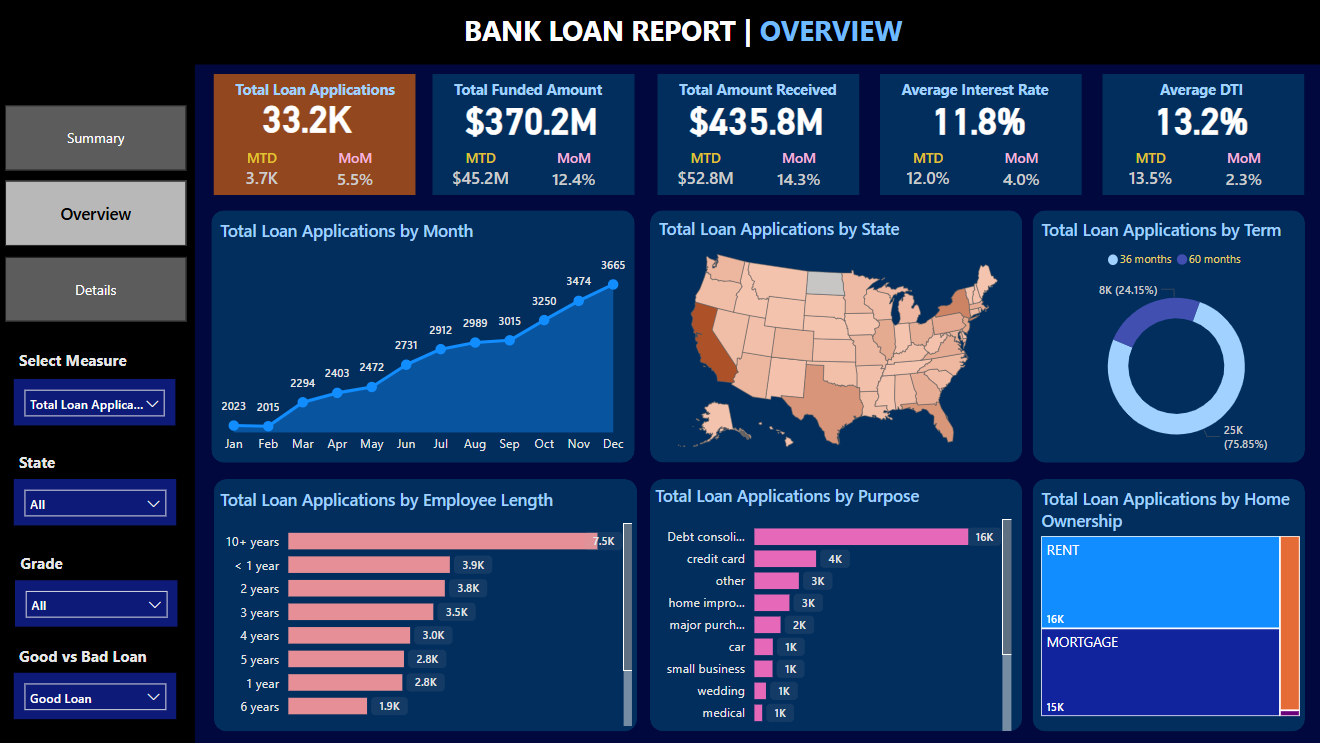

The page's visual inventory and layout, read from the dashboard file:
{"tool":"powerbi","page":{"name":"Overview","canvas":[1280,720],"ordinal":1},"visuals":[{"type":"shape","box":[0,0,1280.3,63.2],"z":0},{"type":"shape","box":[422.3,72.7,195,116.7],"z":0,"group":"g2"},{"type":"shape","box":[210.8,72.9,195,117],"z":0,"group":"g1"},{"type":"shape","box":[639.7,72.9,195,117],"z":0,"group":"g3"},{"type":"shape","box":[854.4,72.9,195,117],"z":0,"group":"g4"},{"type":"shape","box":[1069.1,72.9,195,117],"z":0,"group":"g5"},{"type":"card","fields":{"Values":["bank_loan_data.Total Funded Amount"]},"box":[445.9,86.7,142.7,55.8],"z":1000,"group":"g2"},{"type":"card","fields":{"Values":["bank_loan_data.Total Amount Received"]},"box":[663.3,86.9,142.7,56],"z":1000,"group":"g3"},{"type":"card","fields":{"Values":["bank_loan_data.Average Interest Rate"]},"box":[878,86.9,142.7,56],"z":1000,"group":"g4"},{"type":"card","fields":{"Values":["bank_loan_data.Average DTI"]},"box":[1092.7,86.9,142.7,56],"z":1000,"group":"g5"},{"type":"card","fields":{"Values":["bank_loan_data.Total Loan Applications"]},"box":[233.4,87.4,134.5,52.4],"z":1000,"group":"g1"},{"type":"shape","box":[208.7,203.9,409,243.7],"z":1000},{"type":"shape","box":[0,54.9,192,665.5],"z":2000},{"type":"textbox","box":[437.9,72.4,174.8,29.5],"z":2000,"group":"g2"},{"type":"textbox","box":[226.4,72.6,174.8,29.6],"z":2000,"group":"g1"},{"type":"textbox","box":[655.3,72.6,174.8,29.6],"z":2000,"group":"g3"},{"type":"textbox","box":[870,72.6,174.8,29.6],"z":2000,"group":"g4"},{"type":"textbox","box":[1084.7,72.6,174.8,29.6],"z":2000,"group":"g5"},{"type":"textbox","box":[447.6,7.3,442.4,45.7],"z":3000},{"type":"card","title":"MTD","fields":{"Values":["bank_loan_data.MTD Funded Amount"]},"box":[428.2,143.8,80.7,45.6],"z":3000,"group":"g2"},{"type":"card","title":"MTD","fields":{"Values":["bank_loan_data.MTD Loan Applications"]},"box":[216.7,144.1,80.7,45.7],"z":3000,"group":"g1"},{"type":"card","title":"MTD","fields":{"Values":["bank_loan_data.MTD Total Amount Recieved"]},"box":[645.6,144.1,80.7,45.7],"z":3000,"group":"g3"},{"type":"card","title":"MTD","fields":{"Values":["bank_loan_data.MTD Average Interest Rate"]},"box":[860.3,144.1,80.7,45.7],"z":3000,"group":"g4"},{"type":"card","title":"MTD","fields":{"Values":["bank_loan_data.MTD Avg DTI"]},"box":[1075,144.1,80.7,45.7],"z":3000,"group":"g5"},{"type":"group","id":"g1","title":"Group 1","box":[210.8,72.6,194.5,117.5],"z":4000},{"type":"card","title":"MoM","fields":{"Values":["bank_loan_data.MoM Total Funded Amount"]},"box":[519.3,144,79.8,44.7],"z":4000,"group":"g2"},{"type":"card","title":"MoM","fields":{"Values":["bank_loan_data.MoM Loan Application"]},"box":[307.8,144.4,79.8,44.8],"z":4000,"group":"g1"},{"type":"card","title":"MoM","fields":{"Values":["bank_loan_data.MoM Total Recieved Amount"]},"box":[736.7,144.4,79.8,44.8],"z":4000,"group":"g3"},{"type":"card","title":"MoM","fields":{"Values":["bank_loan_data.MoM Avg Int rate"]},"box":[951.4,144.4,79.8,44.8],"z":4000,"group":"g4"},{"type":"card","title":"MoM","fields":{"Values":["bank_loan_data.MoM Average Interest Rate"]},"box":[1166.1,144.4,79.8,44.8],"z":4000,"group":"g5"},{"type":"group","id":"g2","title":"Group 1","box":[422.3,72.4,195.4,117],"z":5000},{"type":"group","id":"g3","title":"Group 1","box":[639.7,72.6,195,117],"z":6000},{"type":"group","id":"g4","title":"Group 1","box":[854.4,72.6,195,117],"z":7000},{"type":"group","id":"g5","title":"Group 1","box":[1069.1,72.6,195,117],"z":8000},{"type":"slicer","fields":{"Values":["bank_loan_data.address_state"]},"box":[18.1,463.3,156.8,44.6],"z":9000},{"type":"textbox","box":[18.1,431.9,56.7,31.4],"z":10000},{"type":"slicer","fields":{"Values":["bank_loan_data.grade"]},"box":[19.3,561,156.8,44.6],"z":11000},{"type":"textbox","box":[19.3,529.6,63.9,31.4],"z":12000},{"type":"textbox","box":[18.1,618.9,155.6,31.4],"z":13000},{"type":"slicer","fields":{"Values":["bank_loan_data.Good vs Bad Loan"]},"box":[18.1,650.3,156.8,44.6],"z":14000},{"type":"areaChart","fields":{"Y":["bank_loan_data.Total Loan Applications"],"Category":["Date Table.Month"]},"box":[212.3,212.3,403,235.3],"z":15000},{"type":"slicer","fields":{"Values":["Select Measure.Select Measure"]},"box":[18.1,366.8,155.6,44.6],"z":16000},{"type":"textbox","box":[18.1,333,125.5,31.4],"z":17000},{"type":"shape","box":[632.2,203.9,359.5,243.7],"z":18000},{"type":"shapeMap","fields":{"Value":["bank_loan_data.Total Loan Applications"],"Category":["bank_loan_data.address_state"]},"box":[635.8,209.9,355.9,237.7],"z":19000},{"type":"shape","box":[1001.3,203.9,263,243.7],"z":20000},{"type":"donutChart","fields":{"Y":["bank_loan_data.Total Loan Applications"],"Category":["bank_loan_data.term"]},"box":[1005,211.1,270.2,237.7],"z":21000},{"type":"shape","box":[211.1,463.3,409,243.7],"z":22000},{"type":"barChart","fields":{"Y":["bank_loan_data.Total Loan Applications"],"Category":["bank_loan_data.emp_length"]},"box":[212.3,471.7,407.8,235.3],"z":23000},{"type":"shape","box":[632.2,463.3,359.5,243.7],"z":24000},{"type":"barChart","fields":{"Y":["bank_loan_data.Total Loan Applications"],"Category":["bank_loan_data.purpose"]},"box":[632.2,468.1,353.5,243.7],"z":25000},{"type":"shape","box":[1001.3,463.3,263,243.7],"z":26000},{"type":"treemap","fields":{"Values":["bank_loan_data.Total Loan Applications"],"Group":["bank_loan_data.home_ownership"]},"box":[1005,470.5,259.4,226.8],"z":27000}]}

Visuals, with their boxes in screenshot pixels (x1, y1, x2, y2), scaled from the page's 1280x720 canvas onto the 1320x743 screenshot:
shape: bbox=(0, 0, 1319, 65)
shape: bbox=(435, 75, 637, 195)
shape: bbox=(217, 75, 418, 196)
shape: bbox=(660, 75, 861, 196)
shape: bbox=(881, 75, 1082, 196)
shape: bbox=(1103, 75, 1304, 196)
card - bank_loan_data.Total Funded Amount: bbox=(460, 89, 607, 147)
card - bank_loan_data.Total Amount Received: bbox=(684, 90, 831, 147)
card - bank_loan_data.Average Interest Rate: bbox=(905, 90, 1053, 147)
card - bank_loan_data.Average DTI: bbox=(1127, 90, 1274, 147)
card - bank_loan_data.Total Loan Applications: bbox=(241, 90, 379, 144)
shape: bbox=(215, 210, 637, 462)
shape: bbox=(0, 57, 198, 742)
textbox: bbox=(452, 75, 632, 105)
textbox: bbox=(233, 75, 414, 105)
textbox: bbox=(676, 75, 856, 105)
textbox: bbox=(897, 75, 1077, 105)
textbox: bbox=(1119, 75, 1299, 105)
textbox: bbox=(462, 8, 918, 55)
"MTD" card: bbox=(442, 148, 525, 195)
"MTD" card: bbox=(223, 149, 307, 196)
"MTD" card: bbox=(666, 149, 749, 196)
"MTD" card: bbox=(887, 149, 970, 196)
"MTD" card: bbox=(1109, 149, 1192, 196)
"Group 1" group: bbox=(217, 75, 418, 196)
"MoM" card: bbox=(536, 149, 618, 195)
"MoM" card: bbox=(317, 149, 400, 195)
"MoM" card: bbox=(760, 149, 842, 195)
"MoM" card: bbox=(981, 149, 1063, 195)
"MoM" card: bbox=(1203, 149, 1285, 195)
"Group 1" group: bbox=(435, 75, 637, 195)
"Group 1" group: bbox=(660, 75, 861, 196)
"Group 1" group: bbox=(881, 75, 1082, 196)
"Group 1" group: bbox=(1103, 75, 1304, 196)
slicer - bank_loan_data.address_state: bbox=(19, 478, 180, 524)
textbox: bbox=(19, 446, 77, 478)
slicer - bank_loan_data.grade: bbox=(20, 579, 182, 625)
textbox: bbox=(20, 547, 86, 579)
textbox: bbox=(19, 639, 179, 671)
slicer - bank_loan_data.Good vs Bad Loan: bbox=(19, 671, 180, 717)
areaChart - bank_loan_data.Total Loan Applications x Date Table.Month: bbox=(219, 219, 635, 462)
slicer - Select Measure.Select Measure: bbox=(19, 379, 179, 425)
textbox: bbox=(19, 344, 148, 376)
shape: bbox=(652, 210, 1023, 462)
shapeMap - bank_loan_data.Total Loan Applications x bank_loan_data.address_state: bbox=(656, 217, 1023, 462)
shape: bbox=(1033, 210, 1304, 462)
donutChart - bank_loan_data.Total Loan Applications x bank_loan_data.term: bbox=(1036, 218, 1315, 463)
shape: bbox=(218, 478, 639, 730)
barChart - bank_loan_data.Total Loan Applications x bank_loan_data.emp_length: bbox=(219, 487, 639, 730)
shape: bbox=(652, 478, 1023, 730)
barChart - bank_loan_data.Total Loan Applications x bank_loan_data.purpose: bbox=(652, 483, 1017, 735)
shape: bbox=(1033, 478, 1304, 730)
treemap - bank_loan_data.Total Loan Applications x bank_loan_data.home_ownership: bbox=(1036, 486, 1304, 720)
